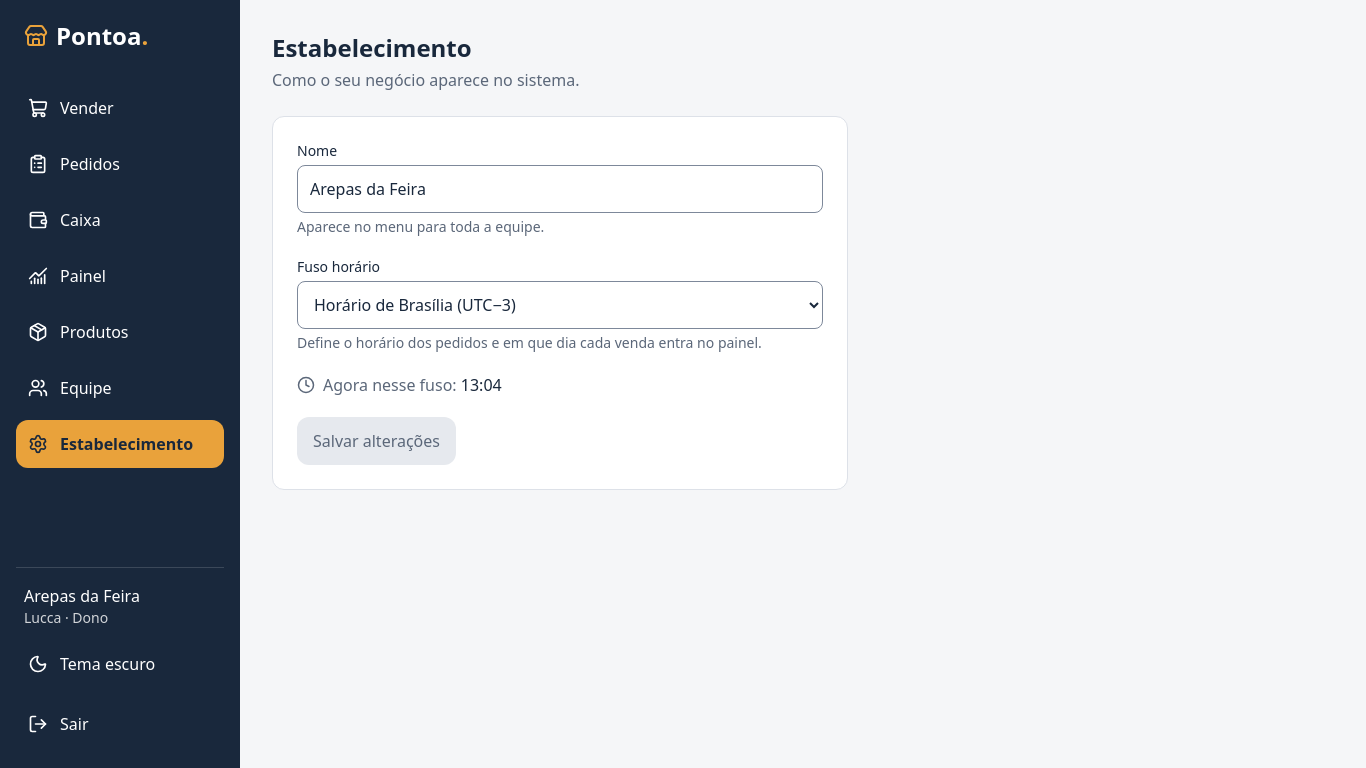
Scenario: BusinessPage › saves only what changed and updates the name in the menu
Expected: the dropdown labelled "Fuso horário" shows "Horário de Brasília (UTC−3)", top-left (297, 281), bottom-right (823, 329)
Expected: the button "Salvar alterações" is disabled, top-left (297, 417), bottom-right (456, 465)
Replace the text in the field labelled "Nome" with "  Arepas do Lucca ": coordinates (560, 189) top-left (297, 165), bottom-right (823, 213)
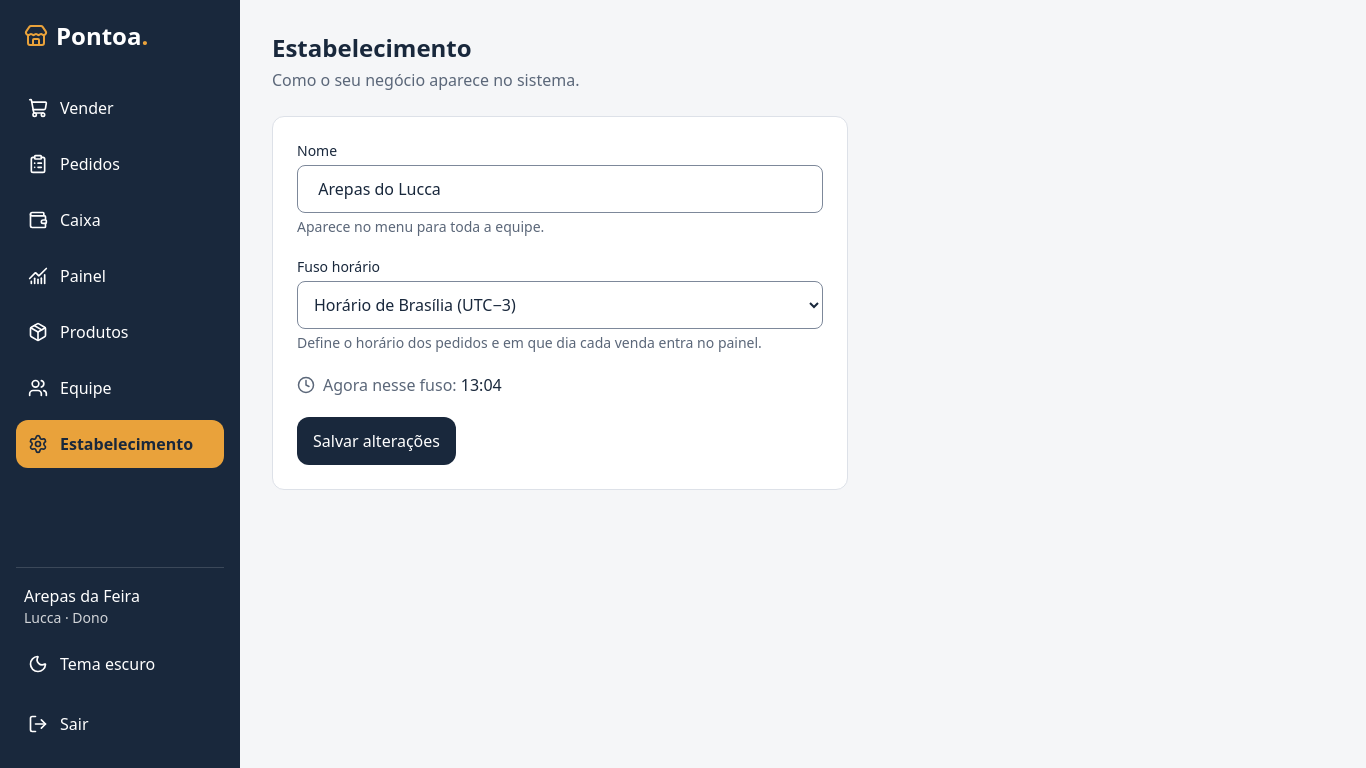
Click the button "Salvar alterações": coordinates (376, 441) top-left (297, 417), bottom-right (456, 465)
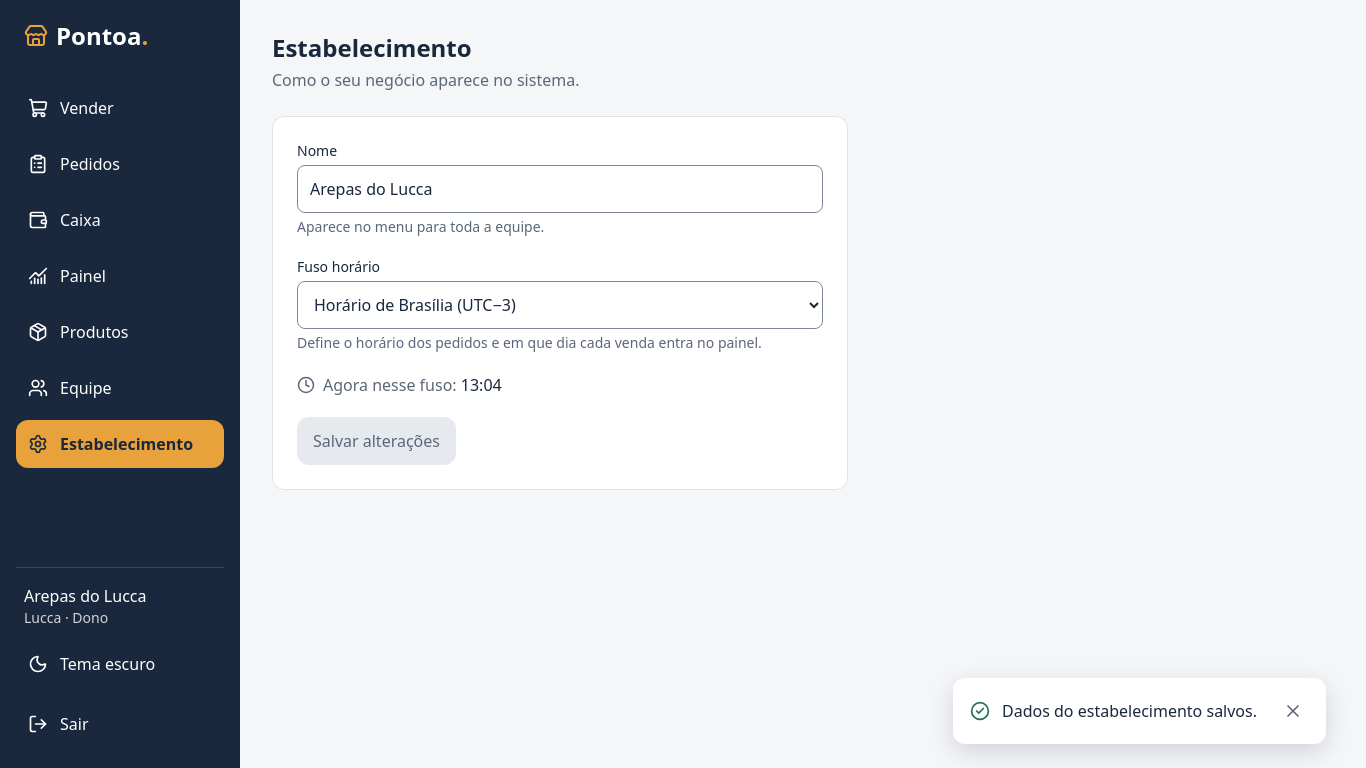
Now the text "Dados do estabelecimento salvos." is shown, box top-left (1002, 700), bottom-right (1257, 722)
Now the text "Arepas do Lucca" is shown, box top-left (24, 585), bottom-right (146, 607)
Now the button "Salvar alterações" is disabled, box top-left (297, 417), bottom-right (456, 465)
